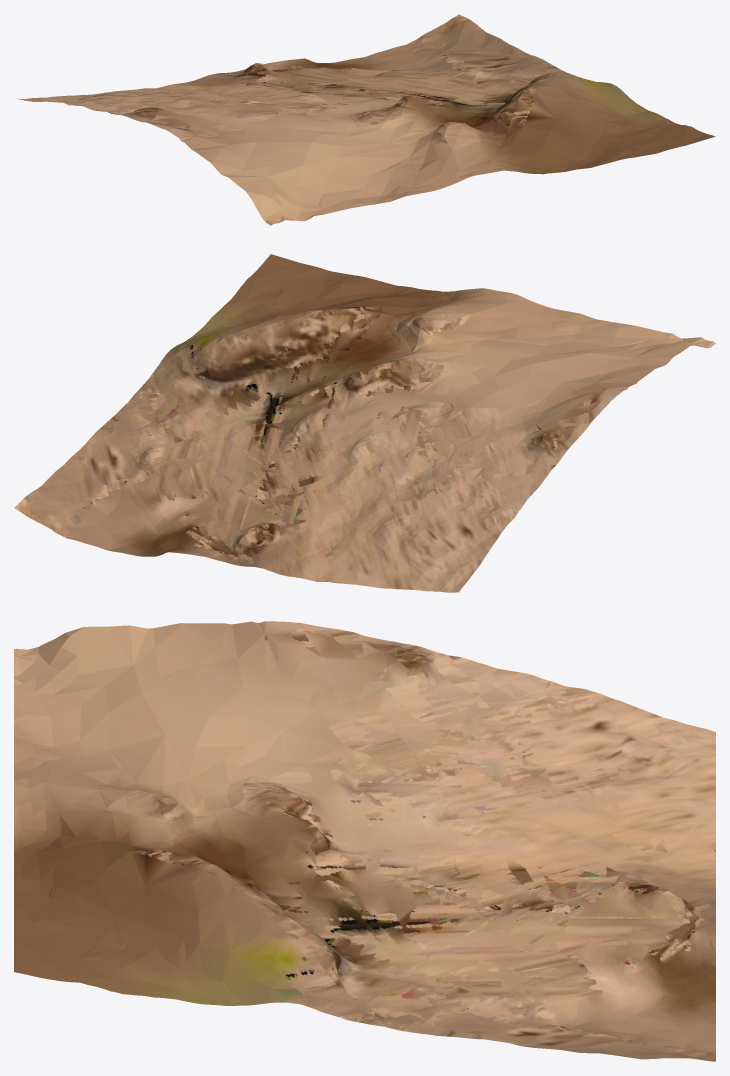
3 renders of one model, top to bottom at view 1: azimuth 30°, elevation 25°; view 2: azimuth 150°, elevation 25°; view 3: azimuth 270°, elevation 25°, orthographic. The views are drawn at different scales.
Bounding box in the file's own units: 1.04 × 0.2808 × 1.04.
Materials: 3 (3 with a texture image).
